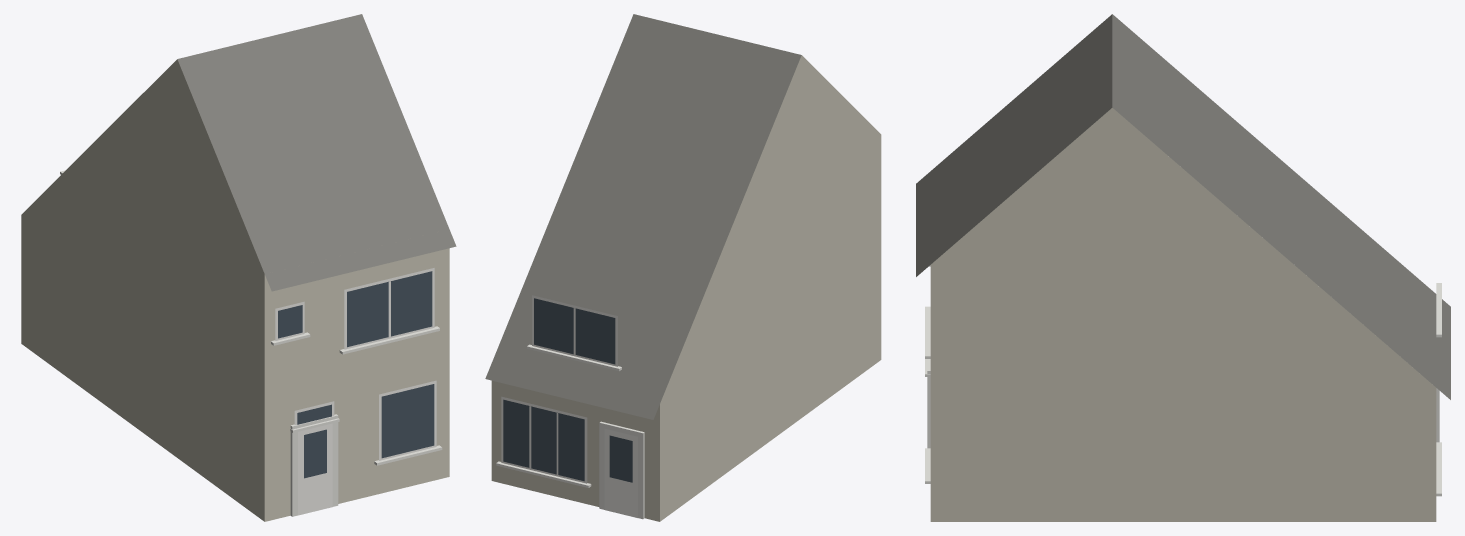
Rendered from nd-tw-gable__cream__2__gable__long__solid__mirror.glb.
3 renders of one model, left to right at view 1: azimuth 30°, elevation 25°; view 2: azimuth 150°, elevation 25°; view 3: azimuth 270°, elevation 25°, orthographic. The views are drawn at different scales.
Visible parts, largest first — view 1: nd-tw-gable__cream__2__gable__long__solid__mirror; view 2: nd-tw-gable__cream__2__gable__long__solid__mirror; view 3: nd-tw-gable__cream__2__gable__long__solid__mirror.
Boxes of the visible parts, left/top/right/bottom form: nd-tw-gable__cream__2__gable__long__solid__mirror: left=21, top=14, right=456, bottom=521; nd-tw-gable__cream__2__gable__long__solid__mirror: left=485, top=14, right=881, bottom=521; nd-tw-gable__cream__2__gable__long__solid__mirror: left=916, top=14, right=1450, bottom=521.
Bounding box in the file's own units: 4.54 × 9.37 × 10.96.
